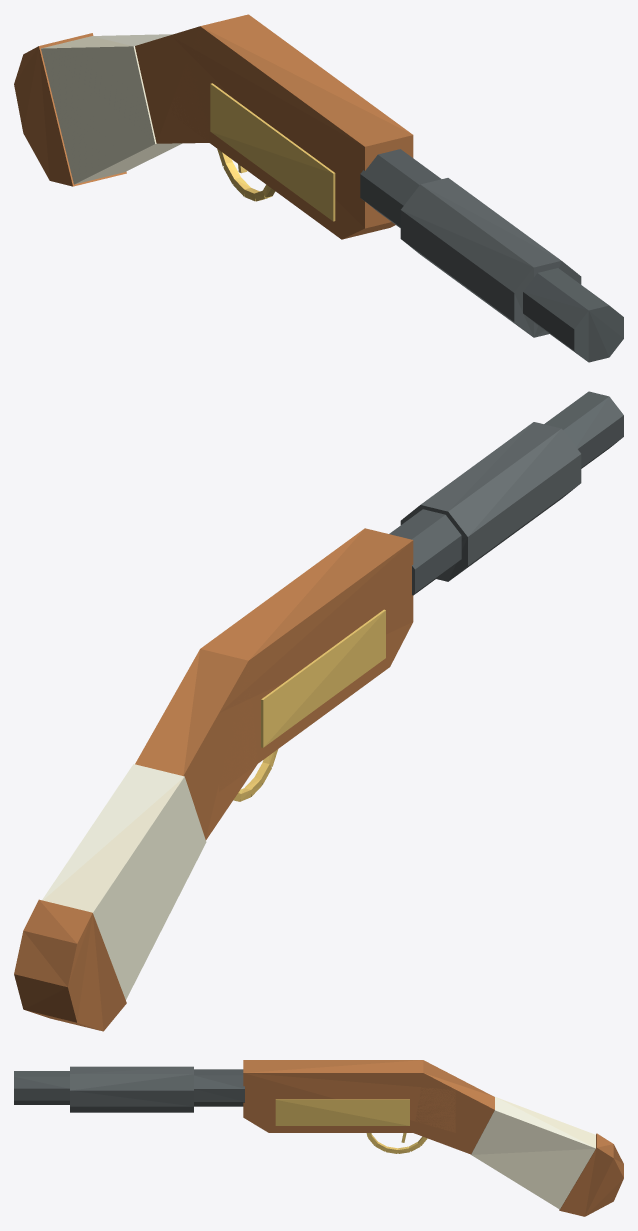
File: pistola_B.fbx
The picture shows the model from 3 angles, top to bottom: view 1: azimuth 30°, elevation 25°; view 2: azimuth 150°, elevation 25°; view 3: azimuth 270°, elevation 25°; orthographic projection. The views are drawn at different scales.
Parts seen in each view (by area): view 1: pistola_B; view 2: pistola_B; view 3: pistola_B.
Part boxes in pixels (x1=…): pistola_B: x1=14, y1=14, x2=623, y2=362; pistola_B: x1=14, y1=391, x2=623, y2=1031; pistola_B: x1=14, y1=1060, x2=623, y2=1216.
Bounding box in the file's own units: 0.0292 × 0.1088 × 0.42.
1 material, 1 textured.
